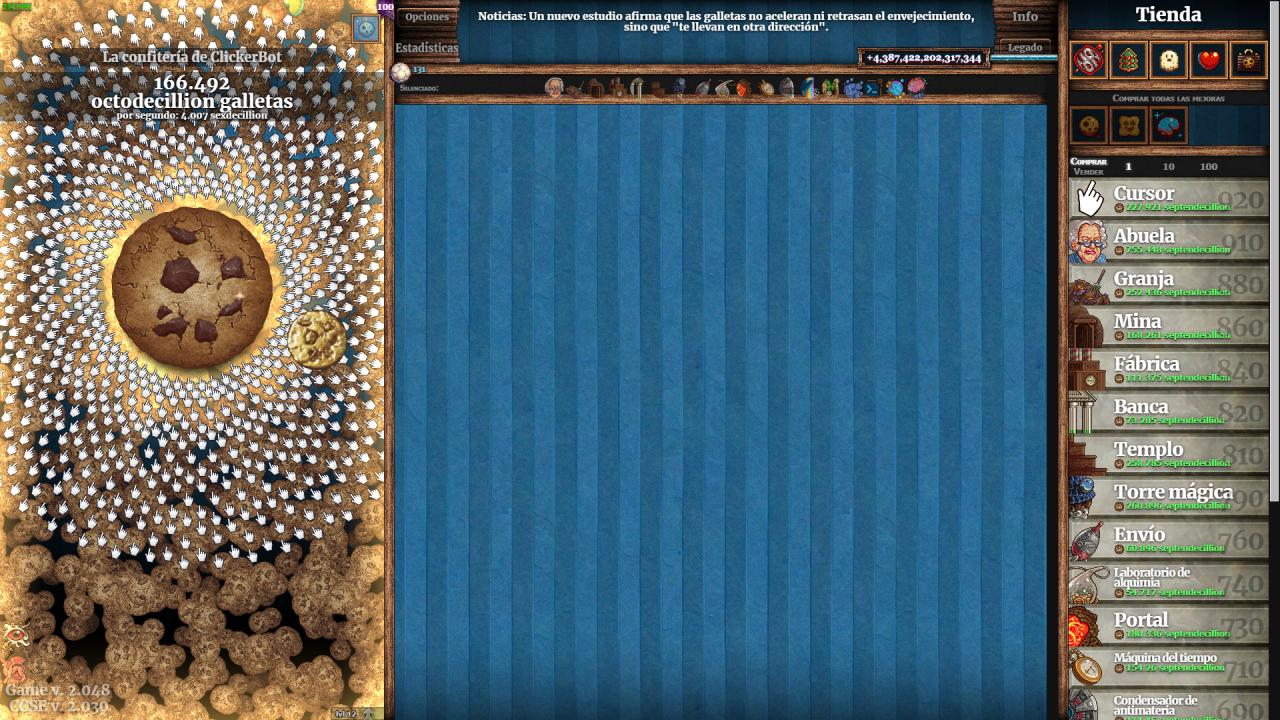GoldenCookie: (286, 309, 348, 371)
